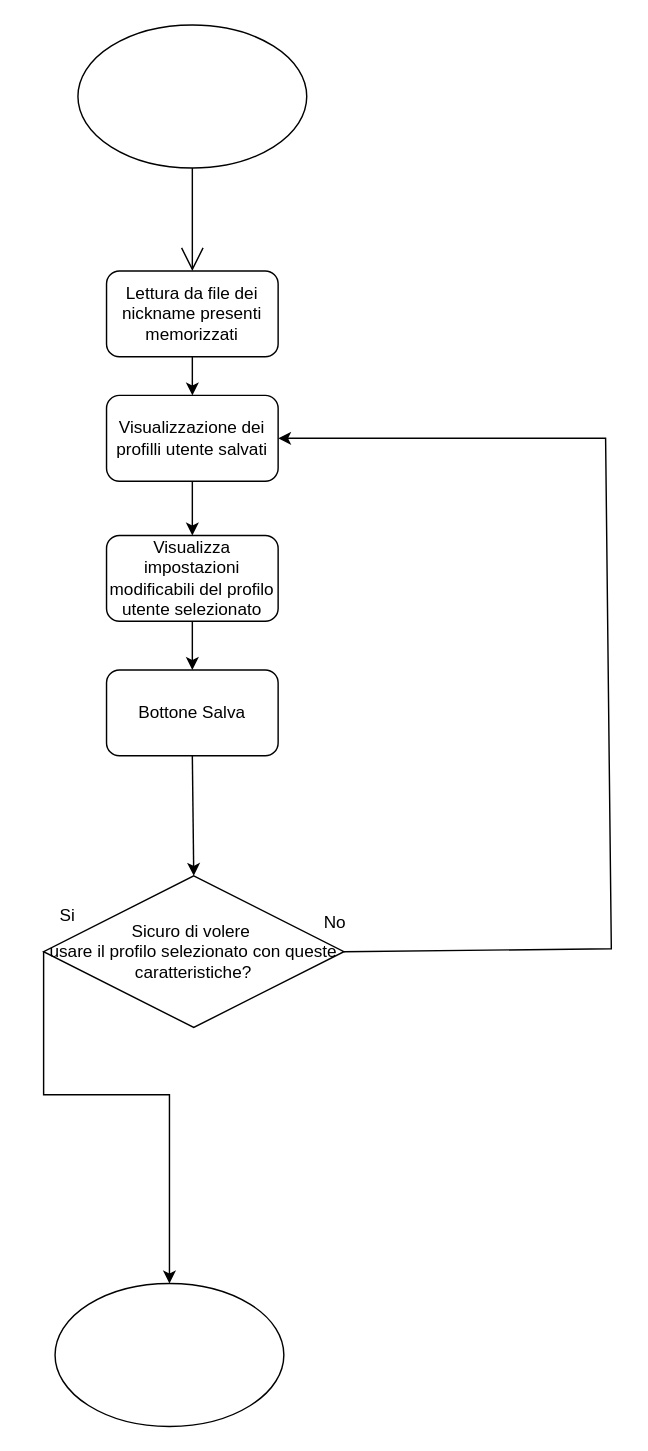
Image size: 648x1451. Some labels were removed from this diagram. Each missing label, with the box of its shape:
Ritorno al menu principale: (54, 1282, 284, 1426)
Selezione e Modifica profilo utente: (77, 24, 307, 168)
